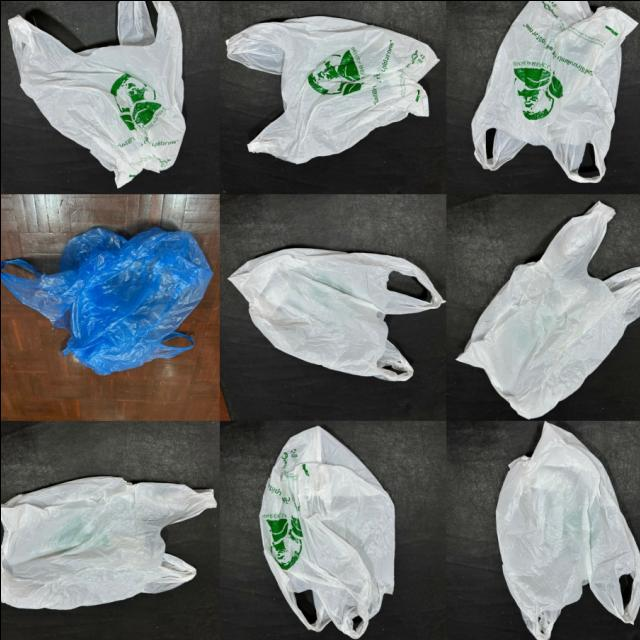plastik: (455, 201, 640, 418), (7, 0, 185, 186), (495, 423, 640, 640), (0, 227, 211, 374), (226, 16, 437, 162), (470, 0, 636, 182), (228, 247, 444, 380), (0, 475, 215, 608), (259, 425, 393, 637)
